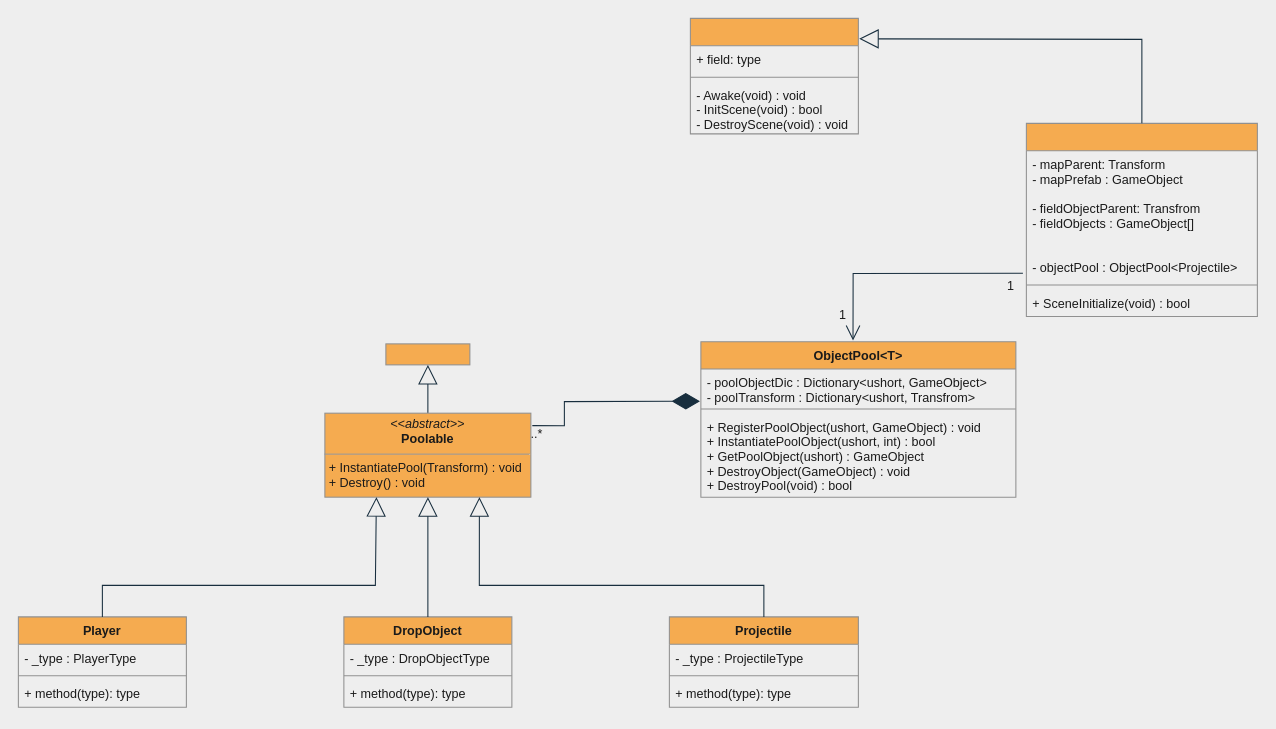
Image size: 1276x729. Some labels were removed from this diagram. The box of each missing label's shape, as (x1, y1, x2, y2) in pixels:
BaseScene: (689, 17, 858, 134)
GameObject: (385, 343, 470, 365)
InGameSceneManager: (1025, 122, 1257, 317)
